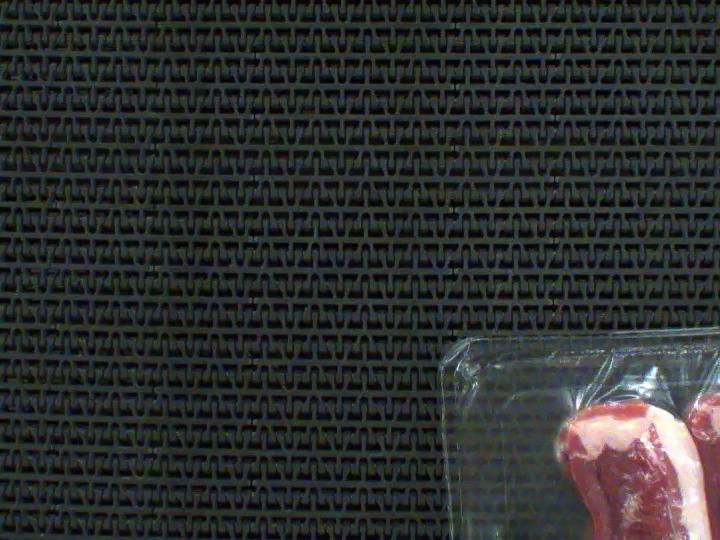unsealed: (499, 348, 720, 540)
